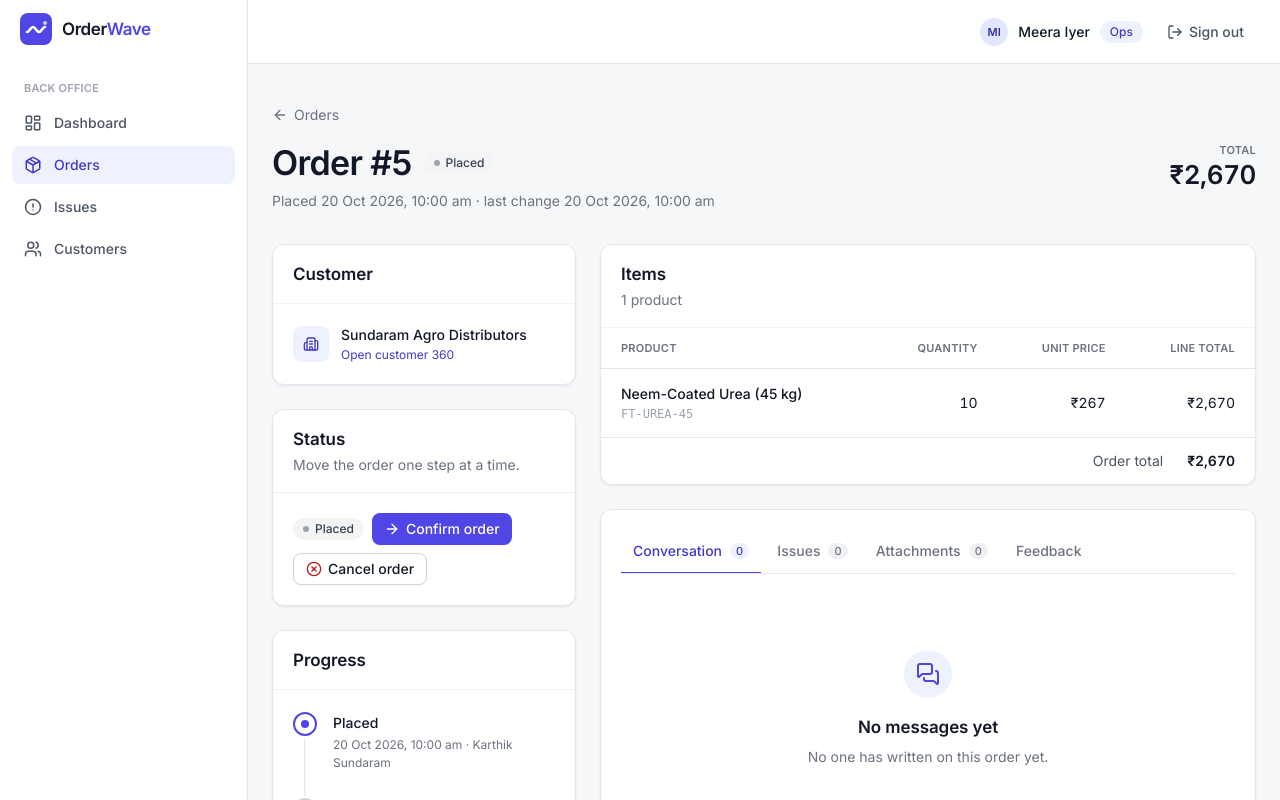
Test: ops order status › moves the order to the next status, refreshes it, and confirms before cancelling
Click the button "Confirm order".
click(442, 529)  # box left=372, top=513, right=512, bottom=545
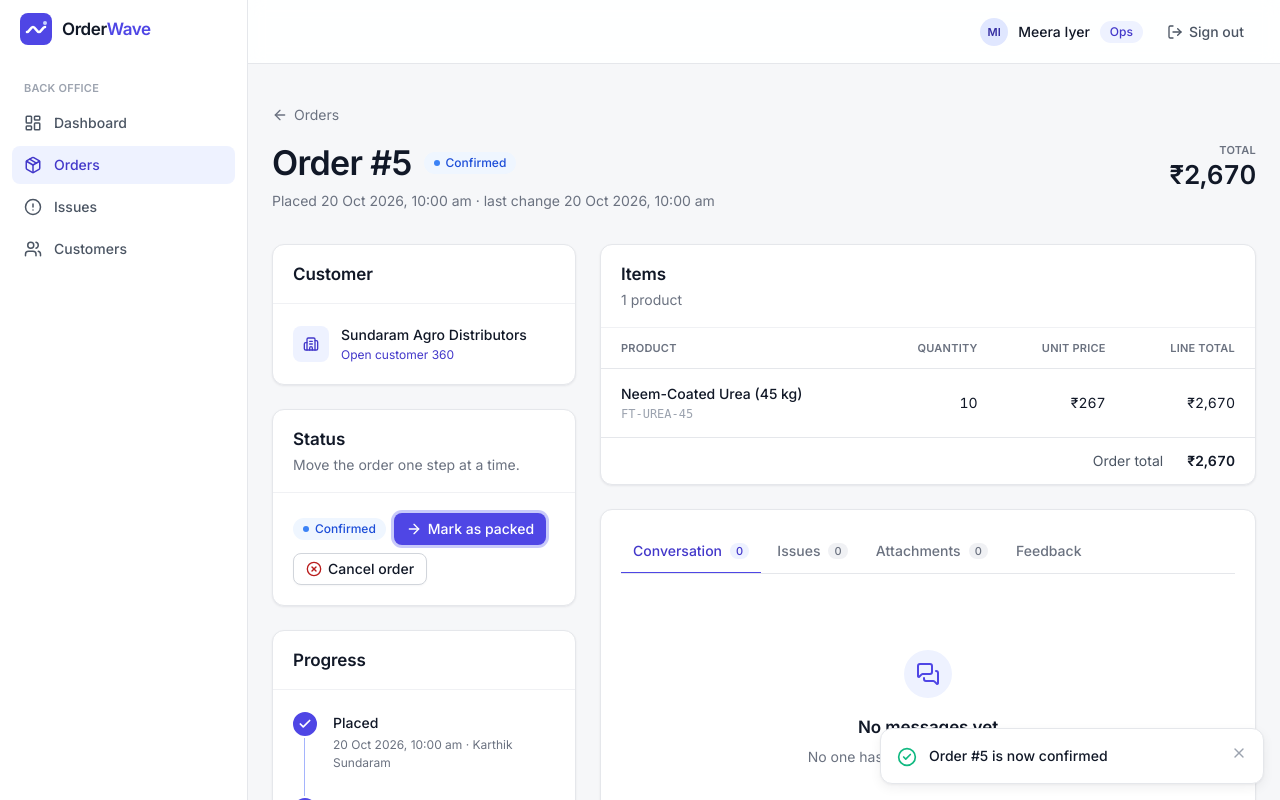
Result: the button "Mark as packed" is shown at left=394, top=513, right=546, bottom=545
Result: the 1st text "Confirmed" is shown at left=424, top=152, right=516, bottom=174
Cancelling asks first.
Click the button "Cancel order".
click(360, 569)  # box left=293, top=553, right=427, bottom=585
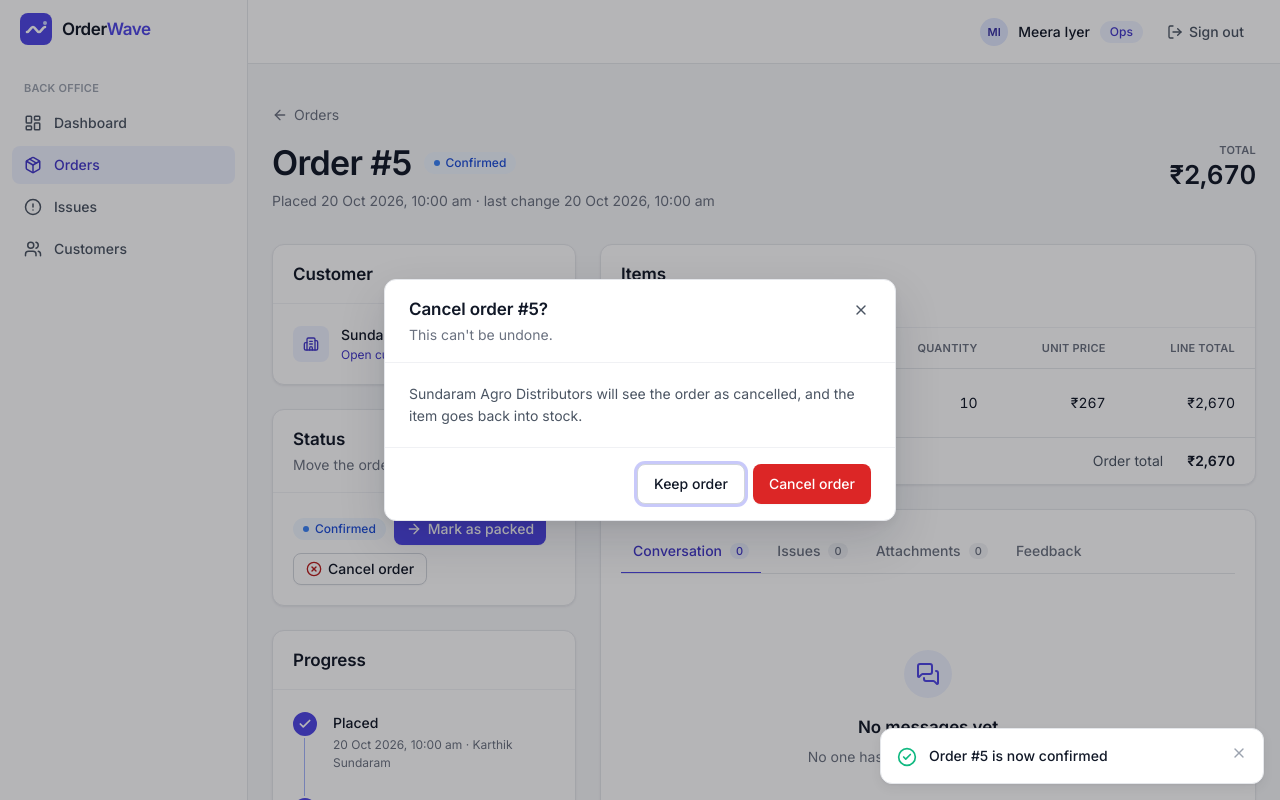
Click the button "Keep order".
click(691, 484)  # box left=637, top=464, right=745, bottom=504
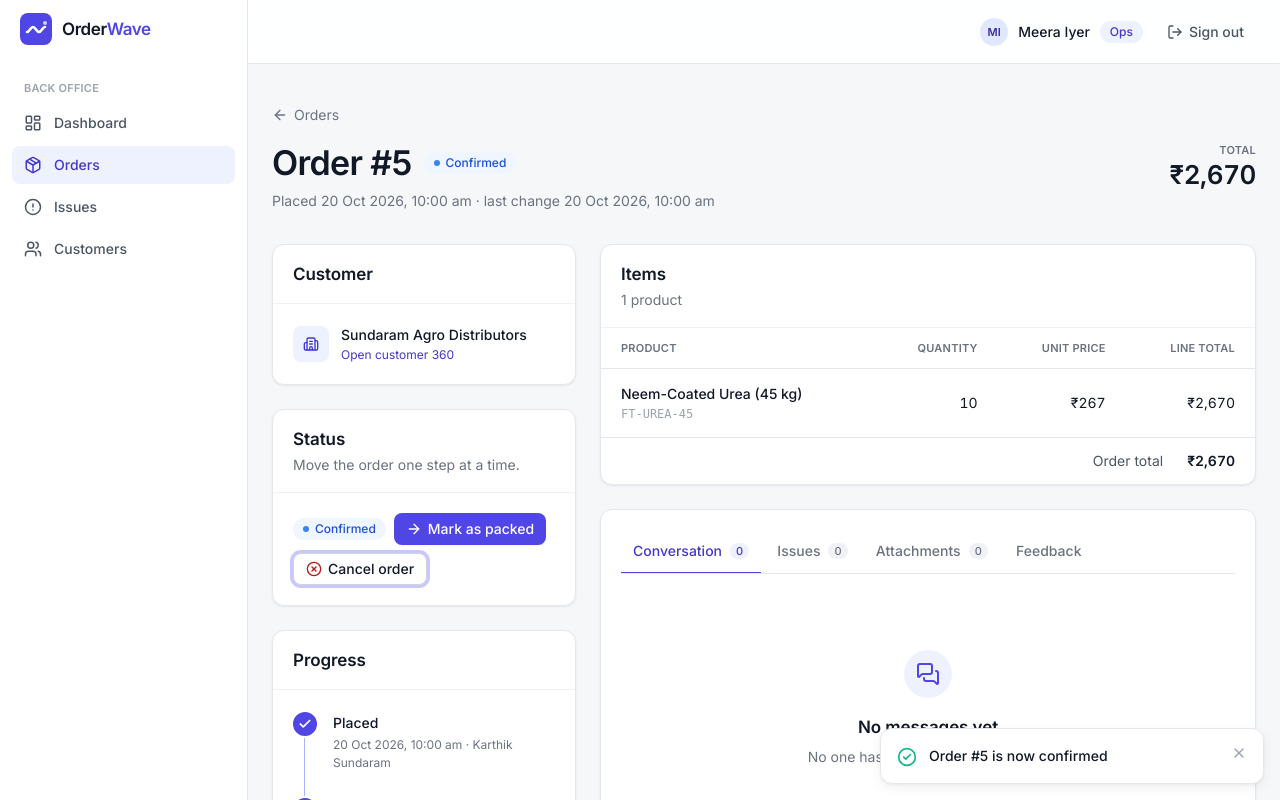
Click the button "Cancel order".
click(360, 569)  # box left=293, top=553, right=427, bottom=585
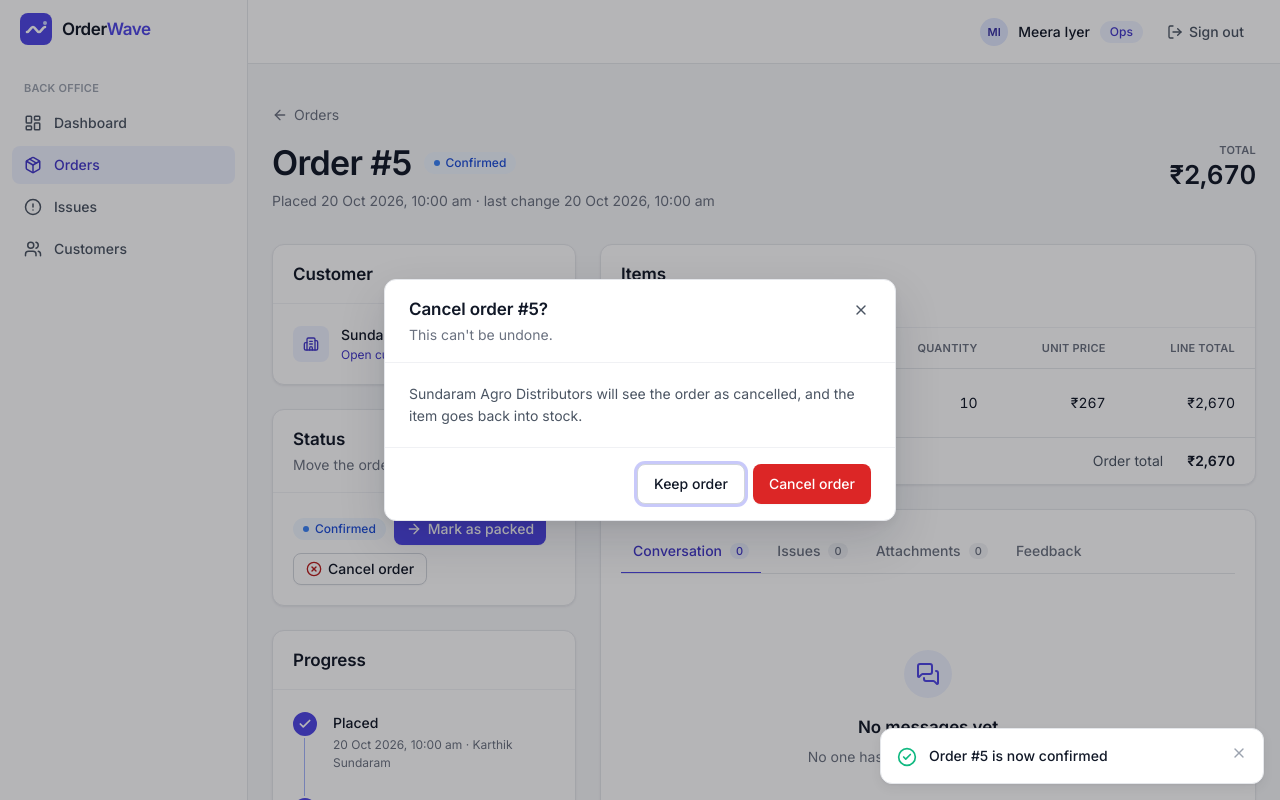
Click the button "Cancel order".
click(812, 484)  # box left=753, top=464, right=871, bottom=504
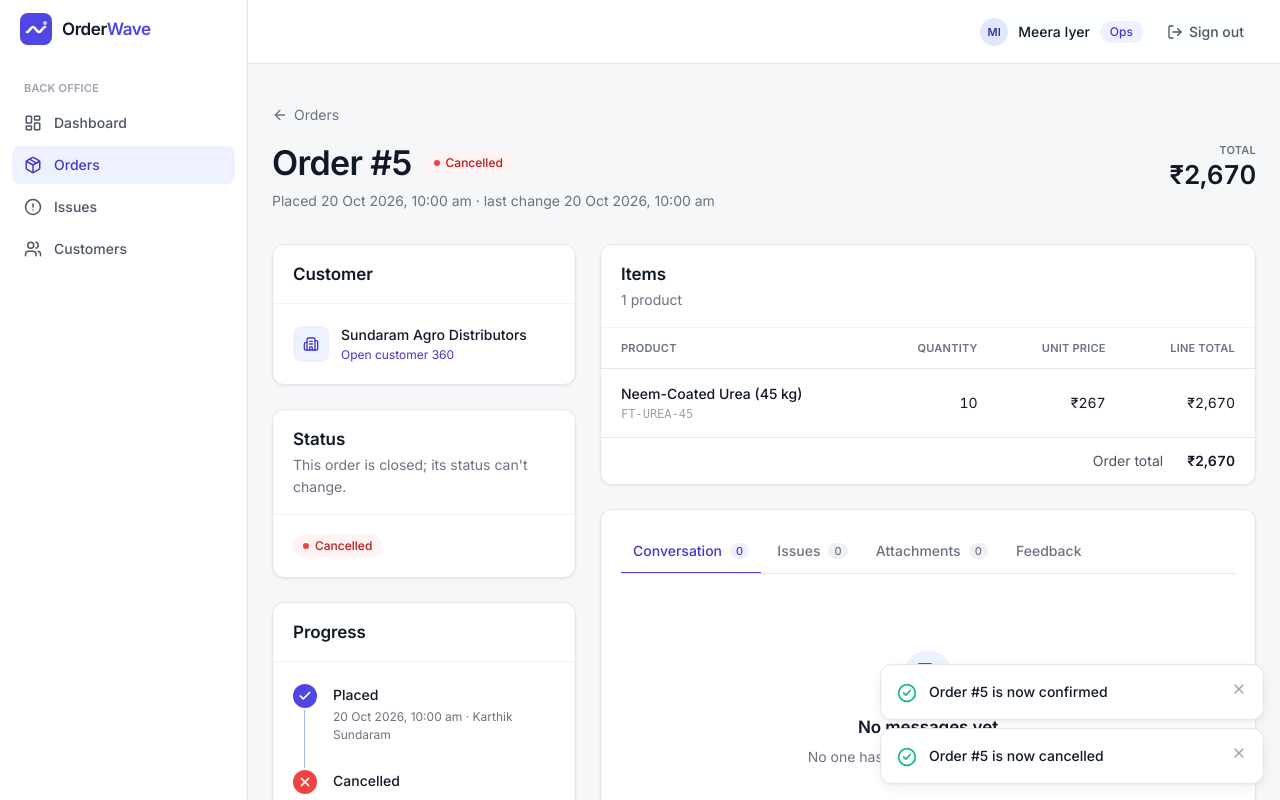
Result: the text "This order is closed; its status can't change." is shown at left=293, top=454, right=555, bottom=498
